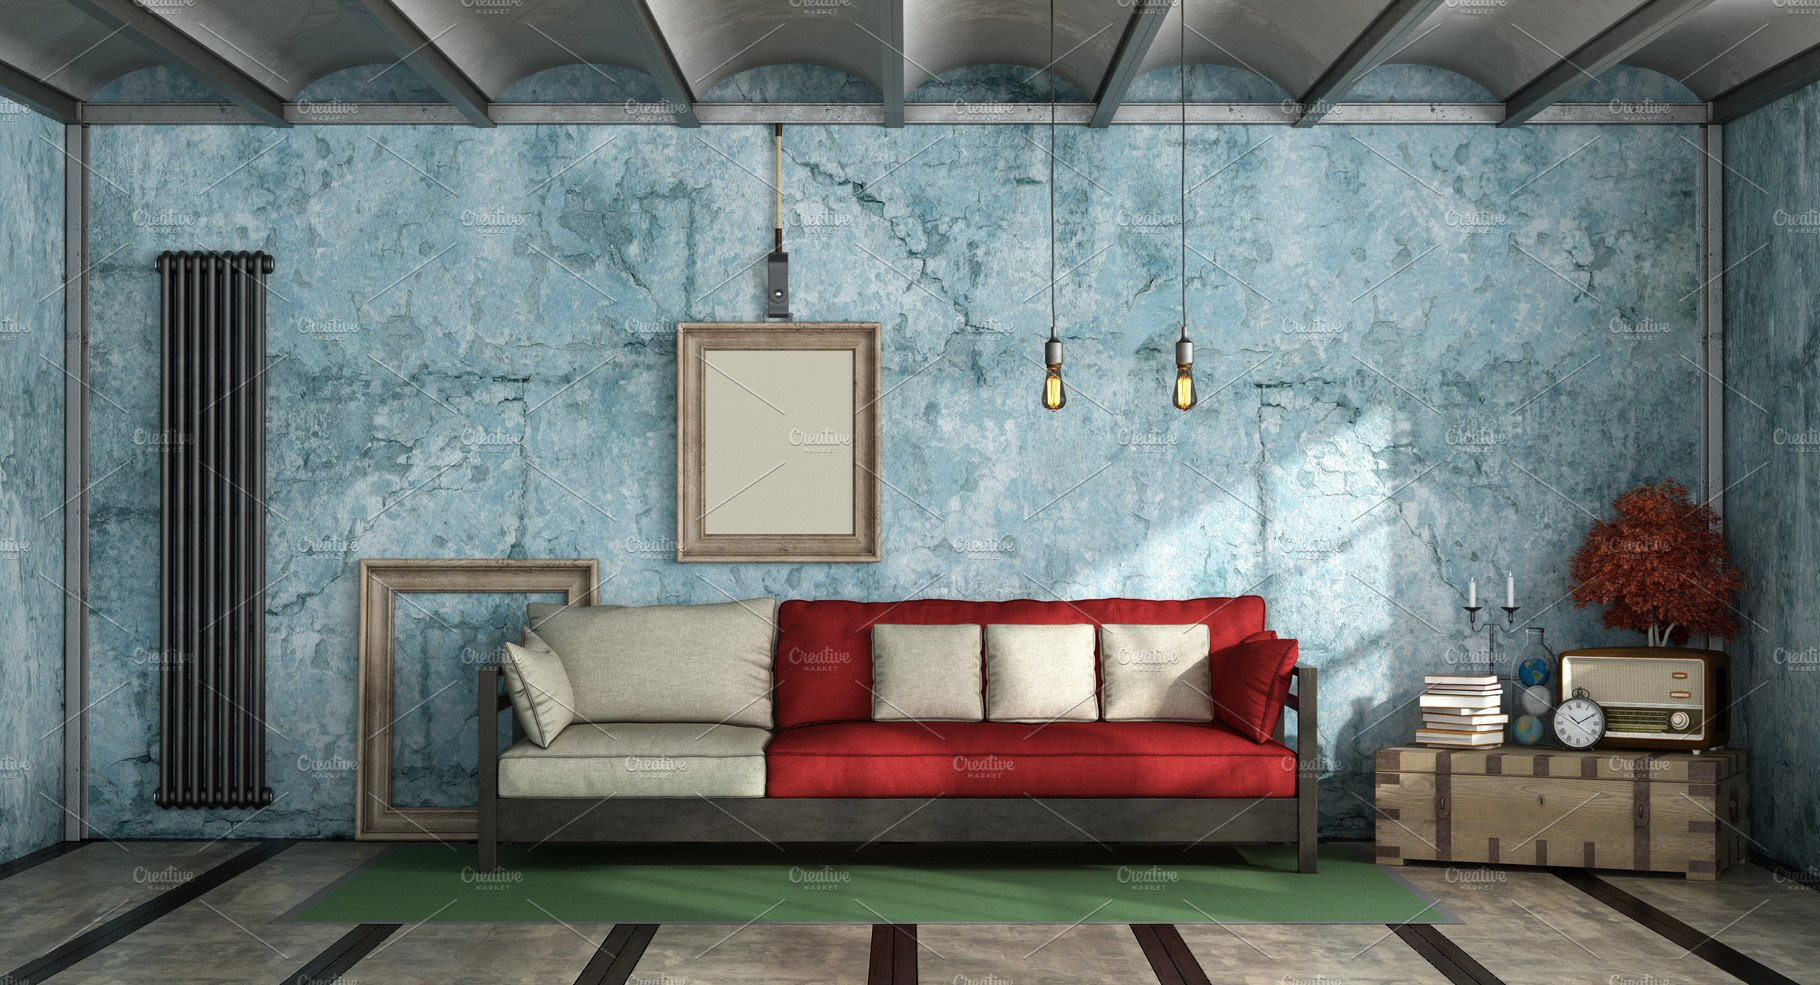putih: (521, 603, 765, 799), (986, 622, 1099, 718), (1094, 621, 1206, 717), (869, 624, 981, 719)
